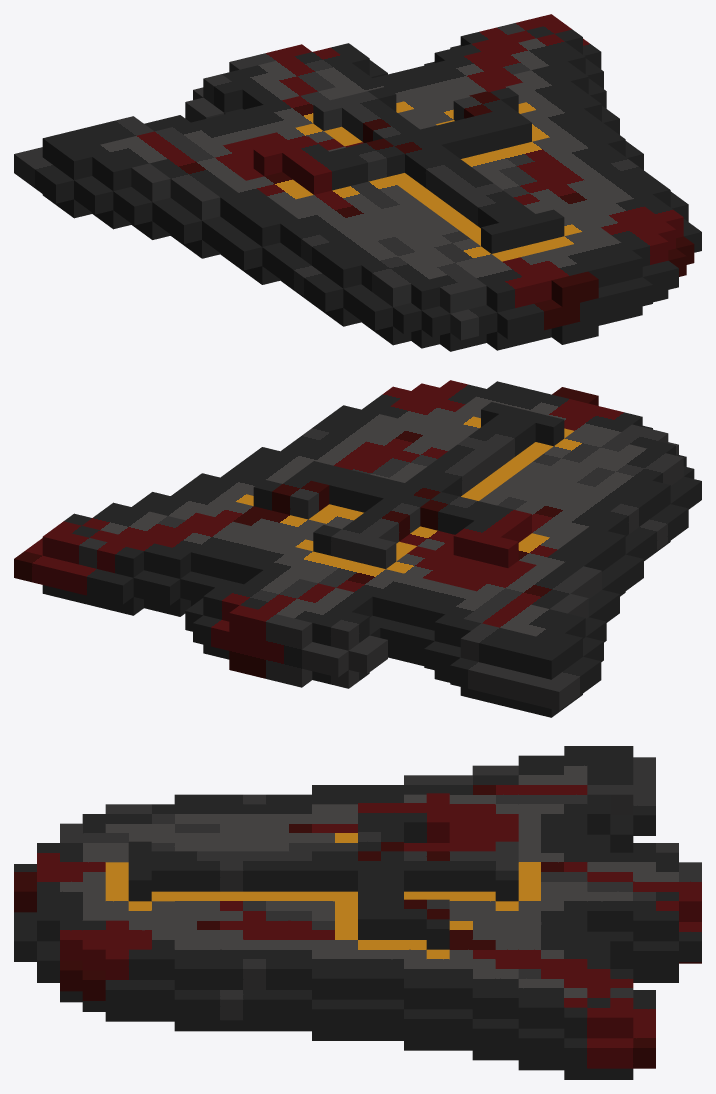
The model's file is 572afbd6-ae21-437c-b8fe-a694977eaeb3.gltf.
3 views of the same model, one above another, from view 1: azimuth 30°, elevation 25°; view 2: azimuth 150°, elevation 25°; view 3: azimuth 270°, elevation 25° (orthographic). The views are drawn at different scales.
Parts seen in each view (by area): view 1: Equip_Left_Hand-Local; view 2: Equip_Left_Hand-Local; view 3: Equip_Left_Hand-Local.
Part boxes in pixels (left/top/right/bottom): Equip_Left_Hand-Local: left=14, top=14, right=701, bottom=351; Equip_Left_Hand-Local: left=14, top=380, right=701, bottom=717; Equip_Left_Hand-Local: left=14, top=746, right=701, bottom=1079.
Size of the model in its own units: 30 by 6 by 30.
1 material, 1 textured.
